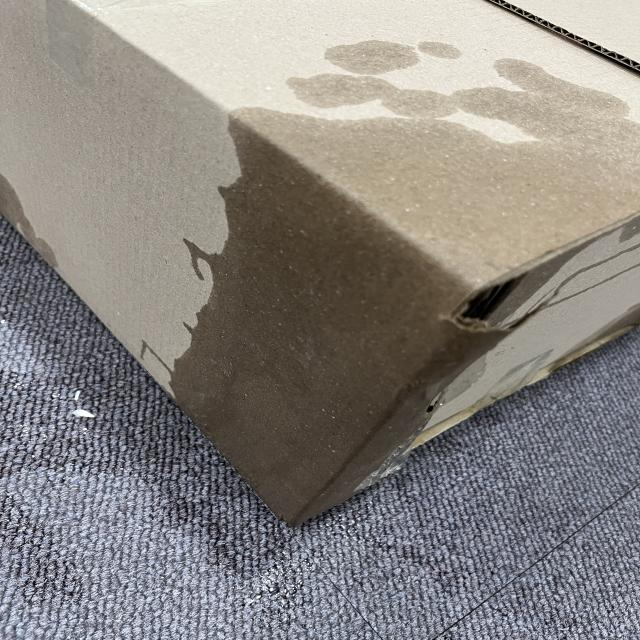wet: (116, 43, 639, 520)
